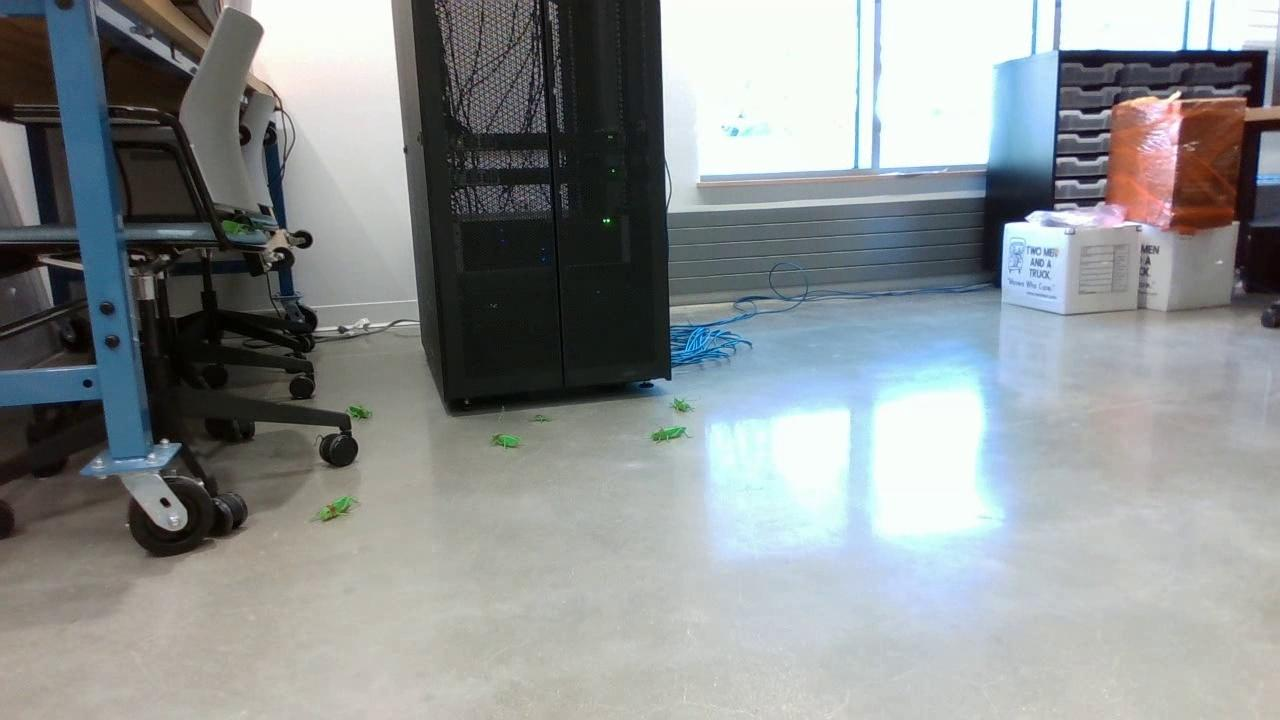grasshopper: (314, 497, 361, 521), (649, 426, 693, 443), (488, 431, 520, 453), (216, 216, 244, 241), (670, 394, 693, 417), (347, 403, 367, 418)
